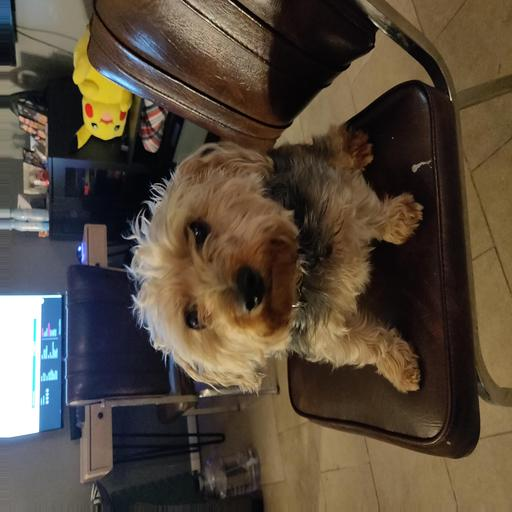dog: (106, 133, 337, 364)
